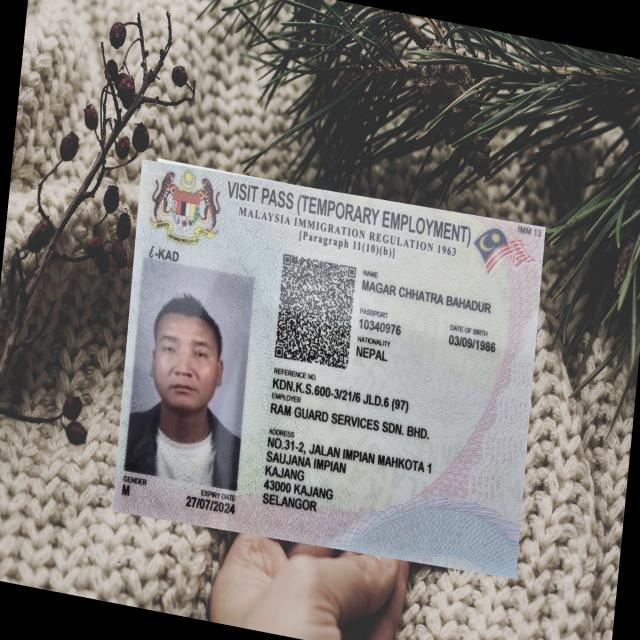ikad-temp: (112, 156, 546, 580)
